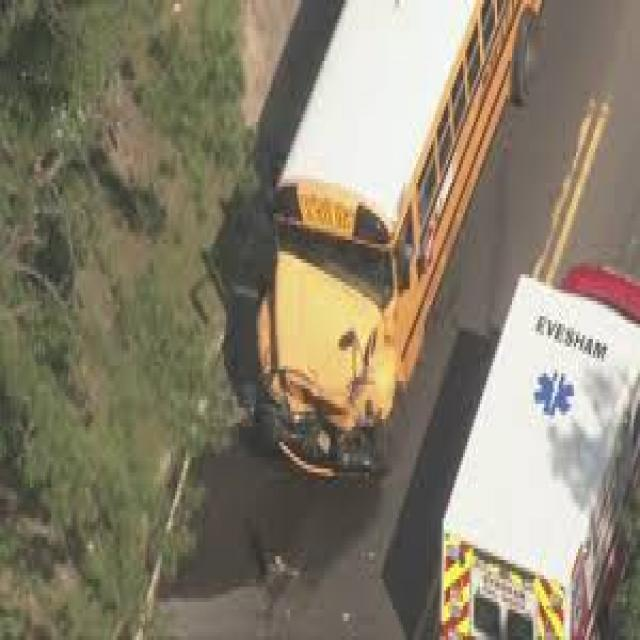accident: (204, 2, 500, 476)
